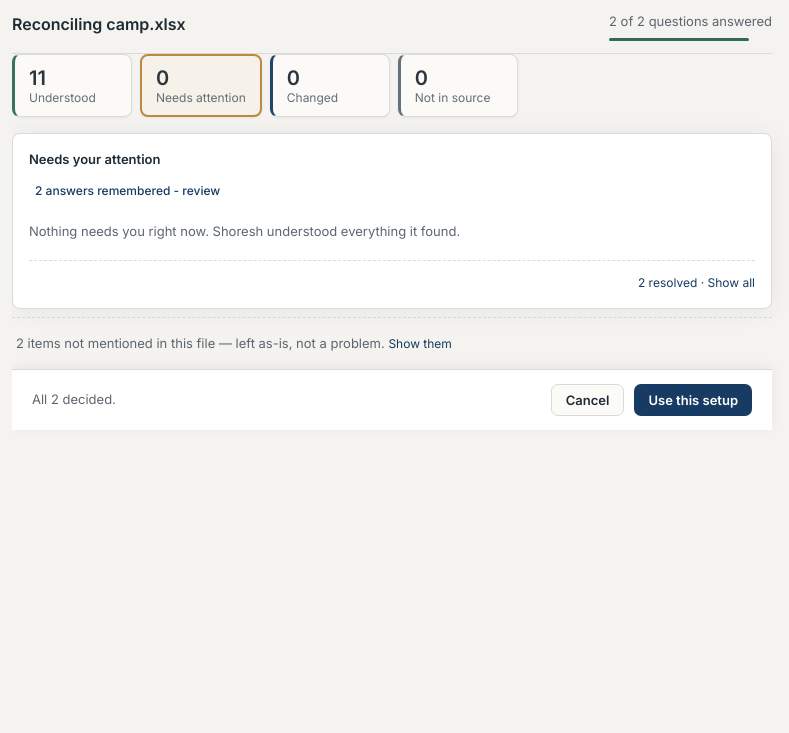
Test: campB re-import at the screen level: nothing the camp already answered is asked again › "review" opens the Remembered group, whose cards say who remembered them
Click the button "2 answers remembered - review": (128, 190) [29,179,226,202]
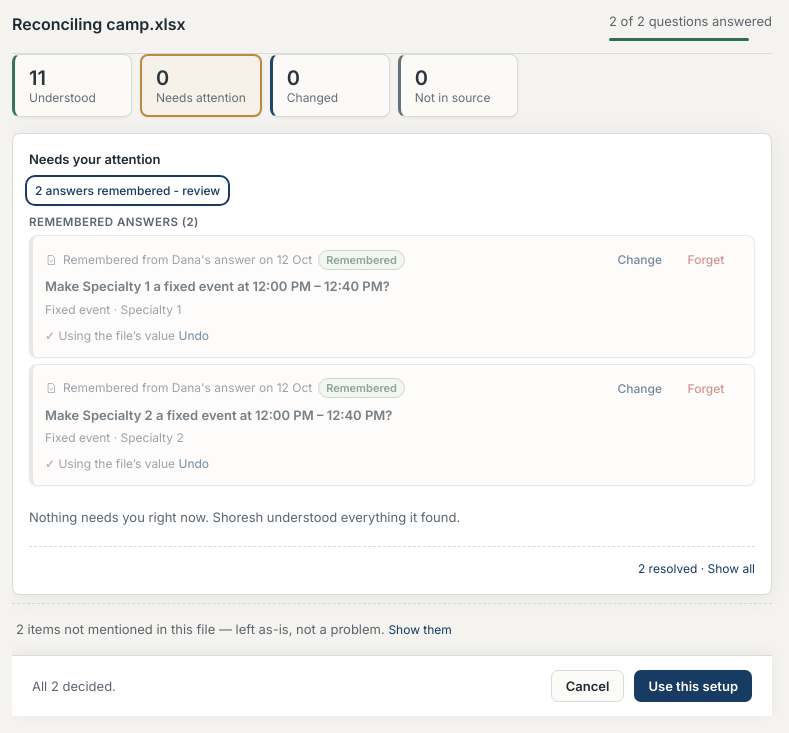
Expected: the text "Remembered from Dana's answer on 12 Oct" is shown 2 times, [63,251,312,269]; [63,379,312,397]
Expected: the text "Remembered answers (2)" is shown, [29,215,199,229]
